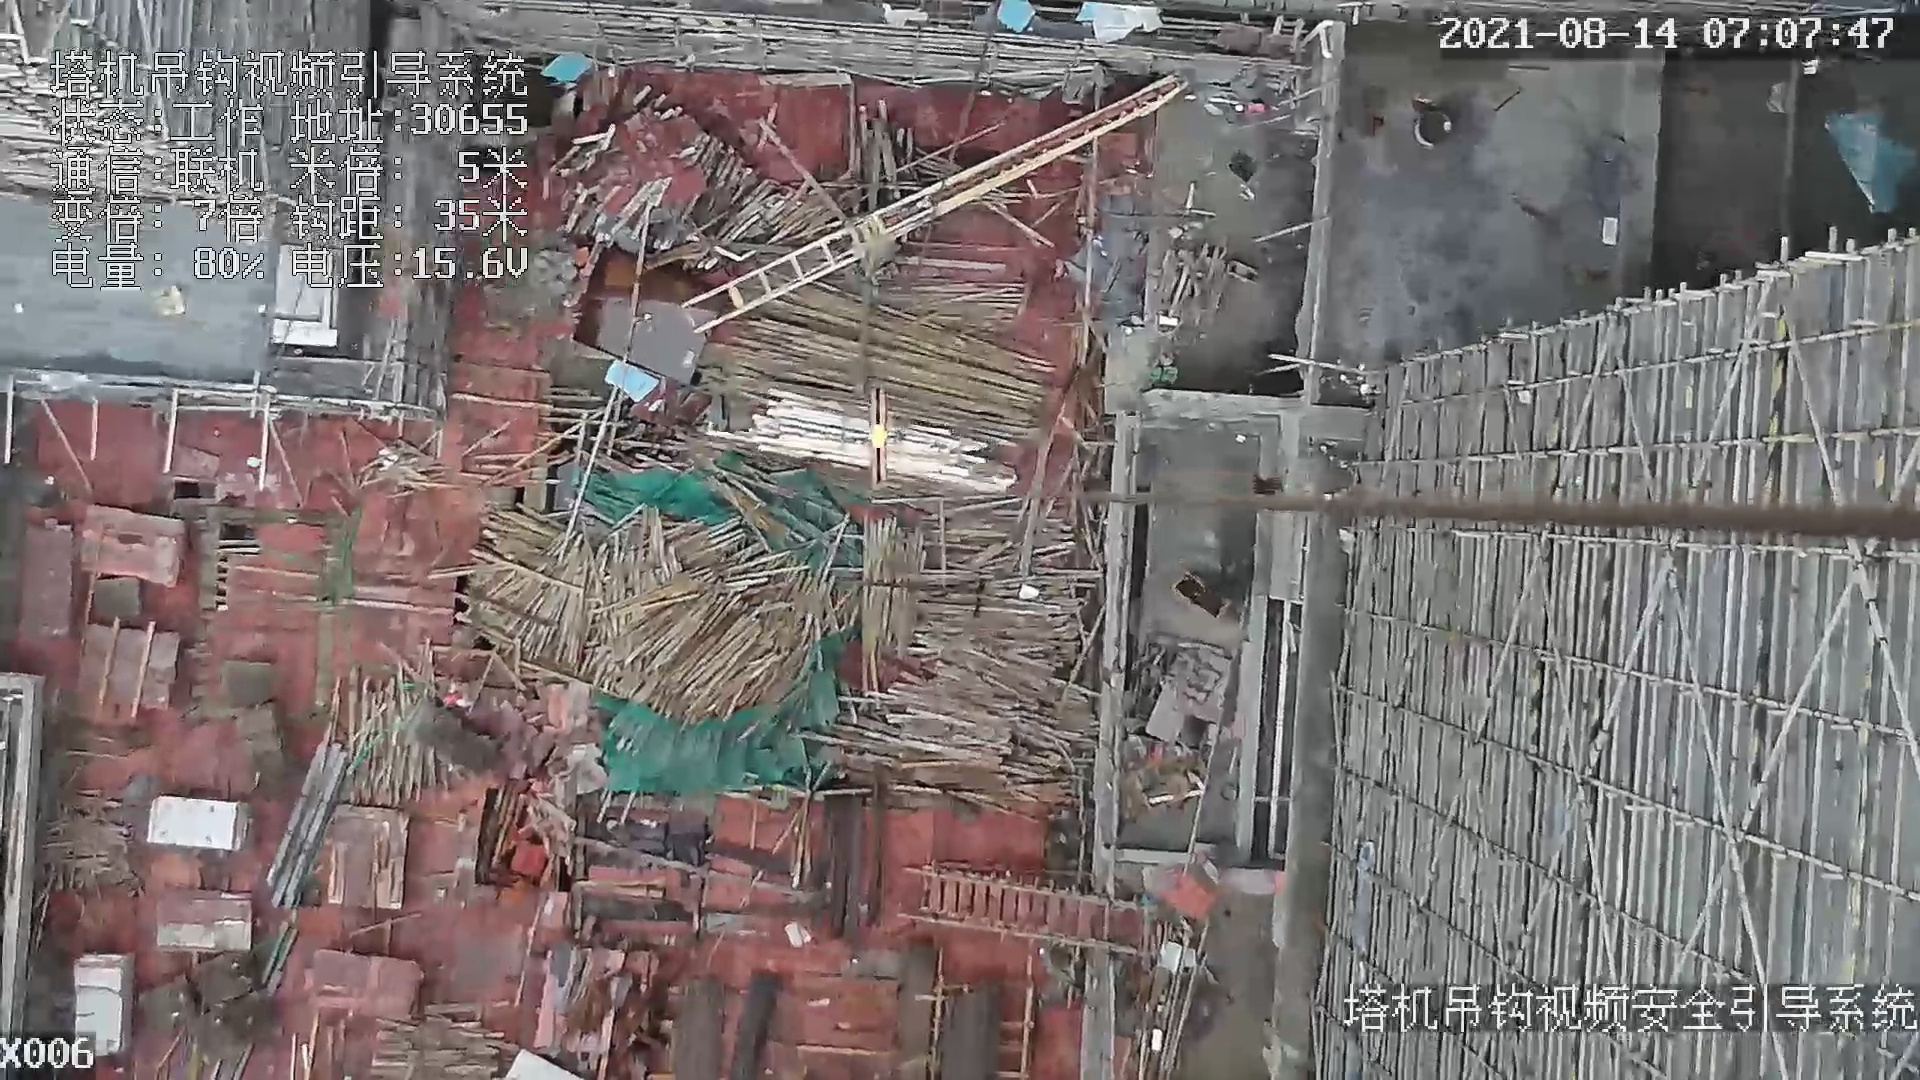hook: (860, 382, 897, 489)
